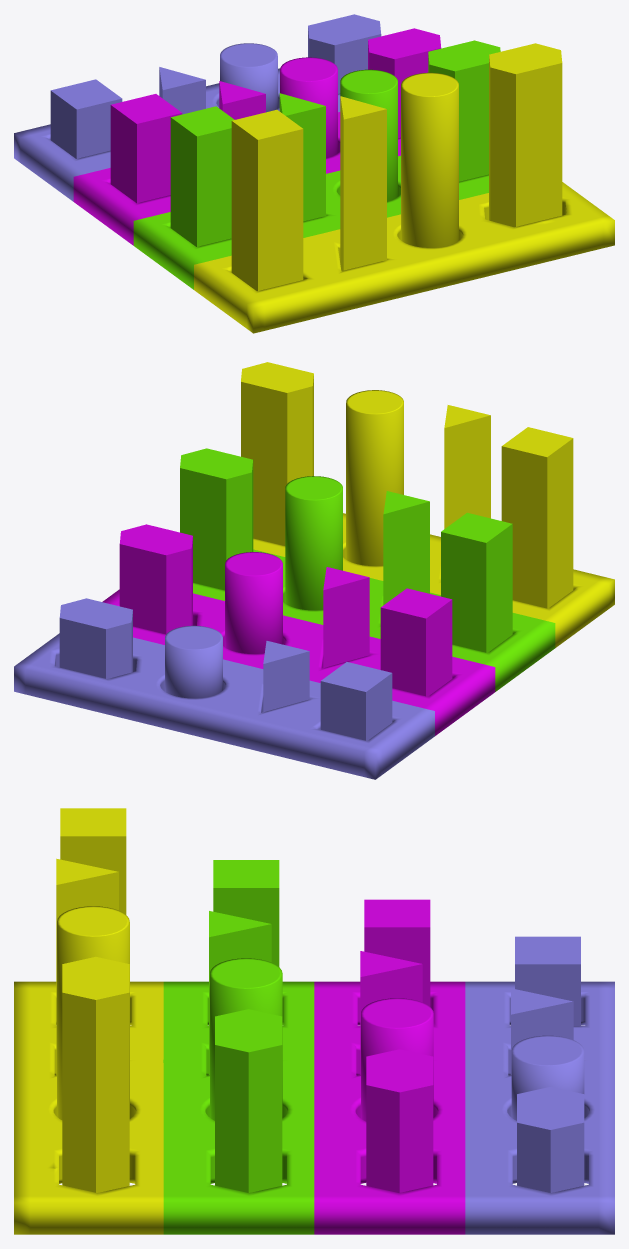
File: CUBICKI.fbx
The picture shows the model from 3 angles, top to bottom: view 1: azimuth 30°, elevation 25°; view 2: azimuth 150°, elevation 25°; view 3: azimuth 270°, elevation 25°; orthographic projection. The views are drawn at different scales.
Parts seen in each view (by area): view 1: Cube, Cube.010, Cube.012, Cylinder.003, Cube.007, Cube.011, Cube.006, Cube.009, Cube.001, Cube.008, Cube.003, Cylinder.001 (+5 smaller); view 2: Cube, Cube.012, Cube.010, Cube.007, Cylinder.003, Cube.009, Cube.004, Cylinder.002, Cube.006, Cylinder.001, Cube.003, Cube.011 (+5 smaller); view 3: Cube, Cube.010, Cube.009, Cube.004, Cube.003, Cylinder.003, Cylinder.002, Cube.006, Cube.007, Cylinder.001, Cube.012, Cube.001 (+5 smaller).
Part boxes in pixels (left/top/right/bottom): Cube: left=14, top=68, right=614, bottom=333; Cube.010: left=489, top=43, right=562, bottom=227; Cube.012: left=231, top=109, right=303, bottom=291; Cylinder.003: left=401, top=72, right=458, bottom=247; Cube.007: left=170, top=106, right=234, bottom=246; Cube.011: left=340, top=96, right=386, bottom=270; Cube.006: left=110, top=94, right=182, bottom=203; Cube.009: left=428, top=40, right=500, bottom=181; Cube.001: left=50, top=79, right=122, bottom=158; Cube.008: left=279, top=93, right=325, bottom=221; Cube.003: left=308, top=14, right=381, bottom=93; Cylinder.001: left=280, top=57, right=337, bottom=157; Cube: left=14, top=513, right=614, bottom=779; Cube.012: left=501, top=427, right=573, bottom=608; Cube.010: left=241, top=362, right=313, bottom=545; Cube.007: left=441, top=512, right=512, bottom=652; Cylinder.003: left=346, top=390, right=403, bottom=565; Cube.009: left=180, top=448, right=253, bottom=590; Cube.004: left=119, top=524, right=192, bottom=634; Cylinder.002: left=285, top=476, right=342, bottom=610; Cube.006: left=380, top=588, right=452, bottom=696; Cylinder.001: left=225, top=552, right=282, bottom=653; Cube.003: left=59, top=598, right=132, bottom=678; Cube.011: left=444, top=405, right=490, bottom=528; Cube: left=14, top=981, right=614, bottom=1234; Cube.010: left=62, top=956, right=129, bottom=1192; Cube.009: left=215, top=1009, right=282, bottom=1192; Cube.004: left=366, top=1049, right=433, bottom=1192; Cube.003: left=517, top=1087, right=584, bottom=1192; Cylinder.003: left=57, top=906, right=129, bottom=1119; Cylinder.002: left=210, top=958, right=282, bottom=1120; Cube.006: left=364, top=899, right=430, bottom=1006; Cube.007: left=213, top=860, right=279, bottom=966; Cylinder.001: left=361, top=998, right=433, bottom=1121; Cube.012: left=60, top=808, right=126, bottom=914; Cube.001: left=515, top=936, right=580, bottom=1025.
Bounding box in the file's own units: 1408 × 660 × 1615.
